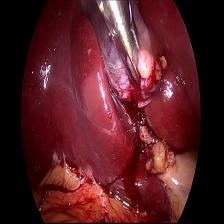Grasper: (98, 1, 146, 92)
